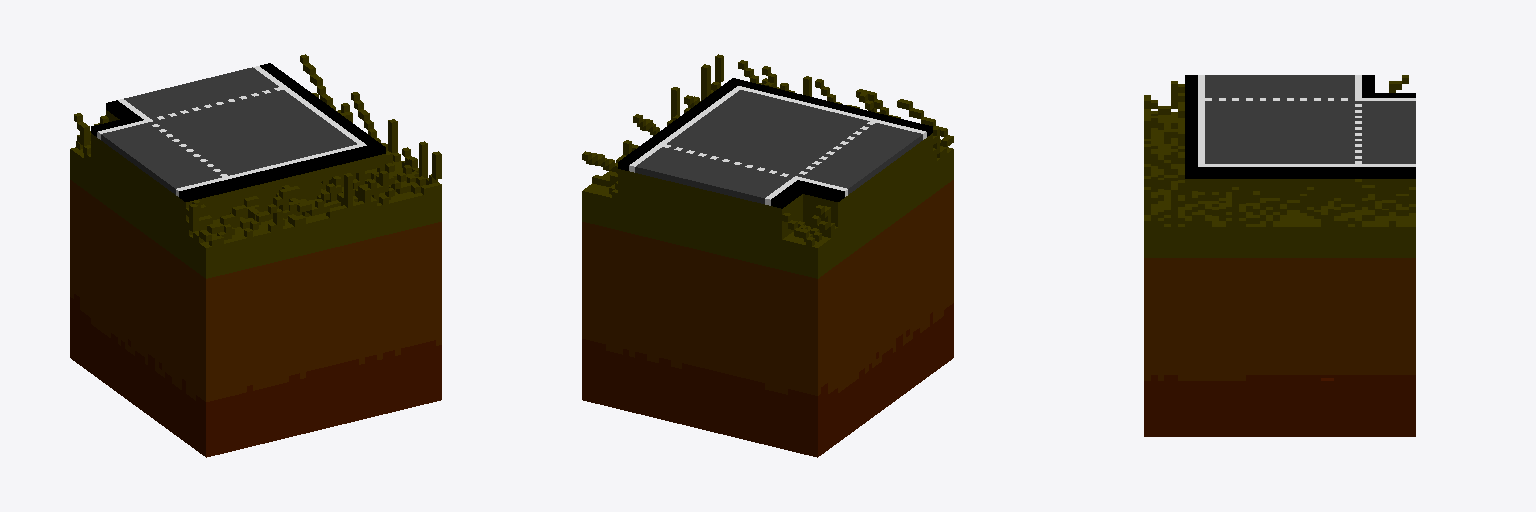
3 views of the same model, side by side, from view 1: azimuth 30°, elevation 25°; view 2: azimuth 150°, elevation 25°; view 3: azimuth 270°, elevation 25° (orthographic).
Parts seen in each view (by area): view 1: RoadTurn.Merged_Plane-tex; view 2: RoadTurn.Merged_Plane-tex; view 3: RoadTurn.Merged_Plane-tex.
Boxes of the visible parts, x1,y1,x2,y2 form: RoadTurn.Merged_Plane-tex: [70, 54, 441, 457]; RoadTurn.Merged_Plane-tex: [582, 54, 953, 457]; RoadTurn.Merged_Plane-tex: [1144, 75, 1415, 436].
Bounding box in the file's own units: 10 × 10 × 10.
1 materials, 1 textured.